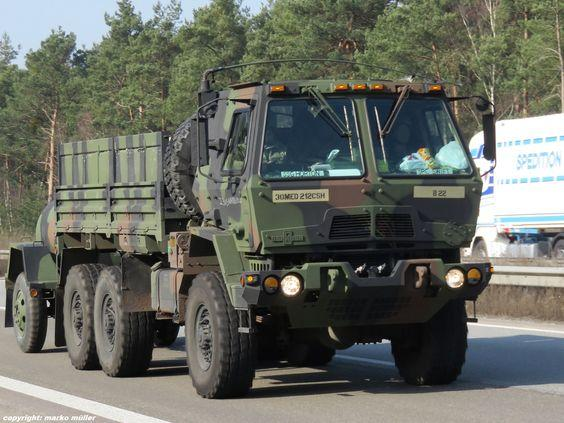ambulance: (16, 85, 477, 395)
